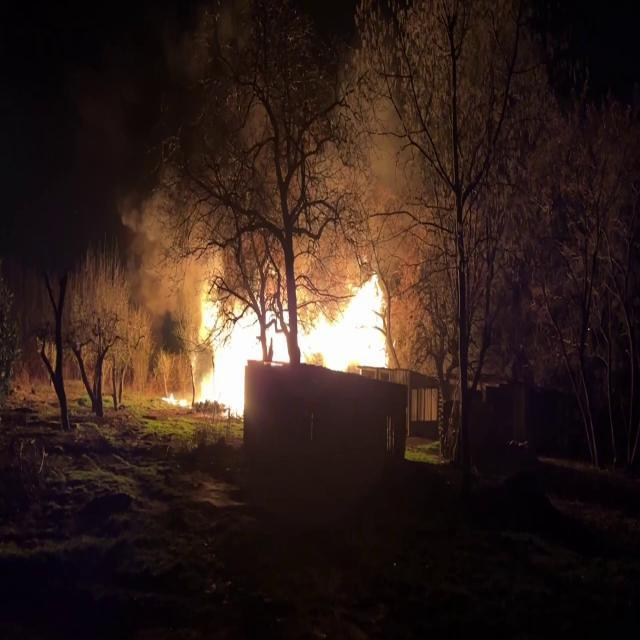Fire: (181, 262, 397, 417)
Smoke: (306, 0, 479, 292), (135, 76, 297, 312)
